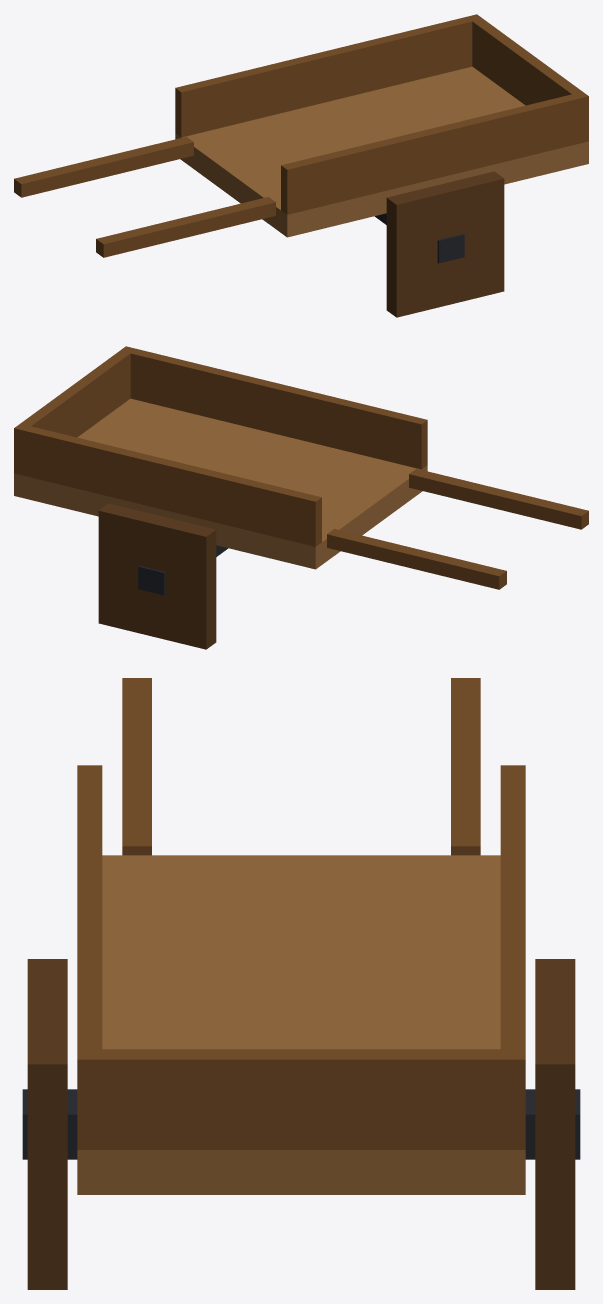
The model's file is cp-handcart.glb.
3 renders of one model, top to bottom at view 1: azimuth 30°, elevation 25°; view 2: azimuth 150°, elevation 25°; view 3: azimuth 270°, elevation 25°, orthographic. The views are drawn at different scales.
Visible parts, largest first — view 1: box-prop; view 2: box-prop; view 3: box-prop.
Boxes of the visible parts, bbox=[...] form: box-prop: bbox=[14, 14, 588, 317]; box-prop: bbox=[14, 346, 588, 649]; box-prop: bbox=[22, 678, 580, 1289].
Bounding box in the file's own units: 2.2 × 0.72 × 1.12.
